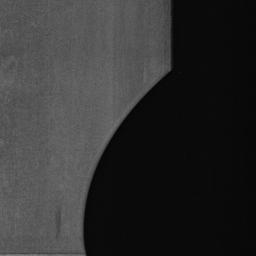Crescent gap: (83, 72, 169, 256)
